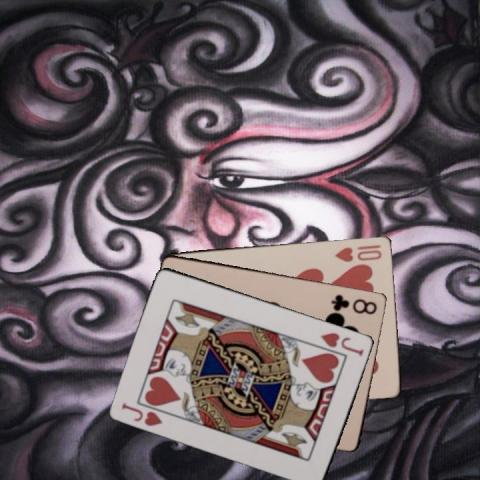10h: (332, 241, 383, 264)
8c: (328, 291, 378, 316)
Jh: (318, 330, 366, 358), (119, 400, 164, 428)
